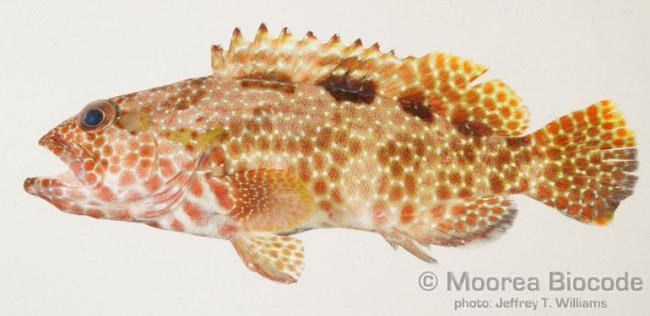fish: (23, 22, 640, 285)
